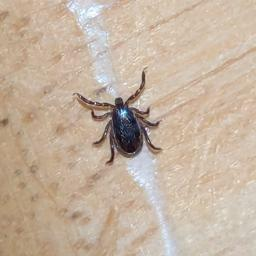Ixodes scapularis: (73, 92, 149, 175)
